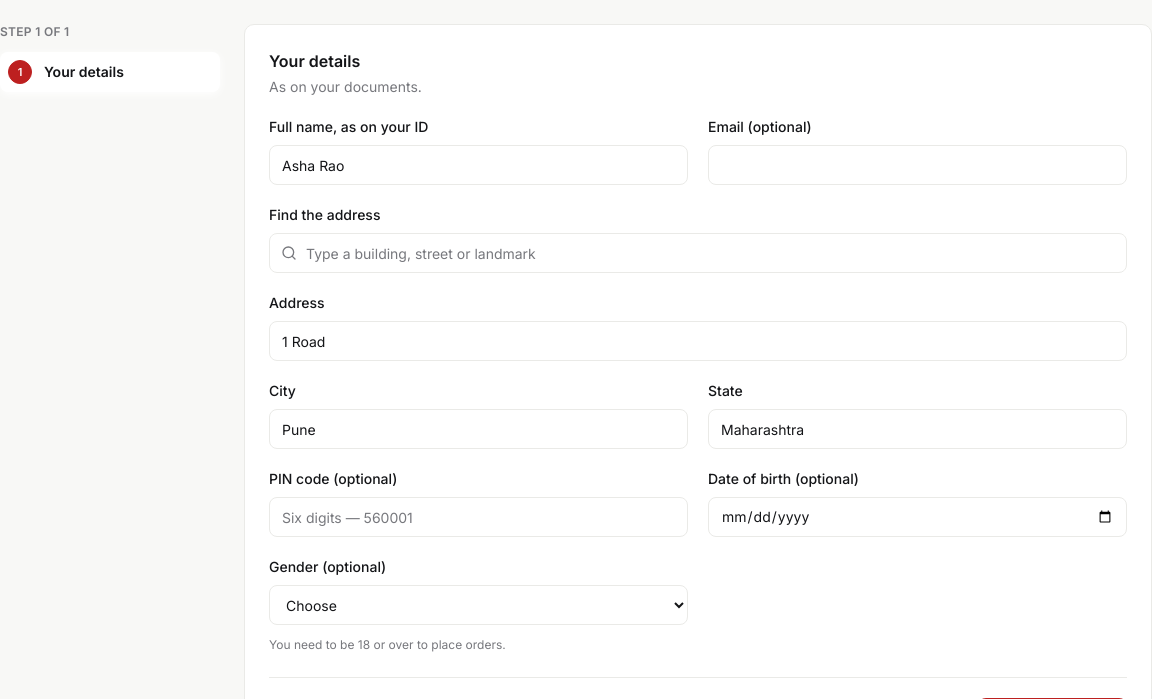
Onboarding ladder — the publisher's address › names a PIN that is not six digits
In the field labelled "PIN code (optional)": {"x": 478, "y": 517} [269, 497, 688, 537], type "4110"
(page scrolled)
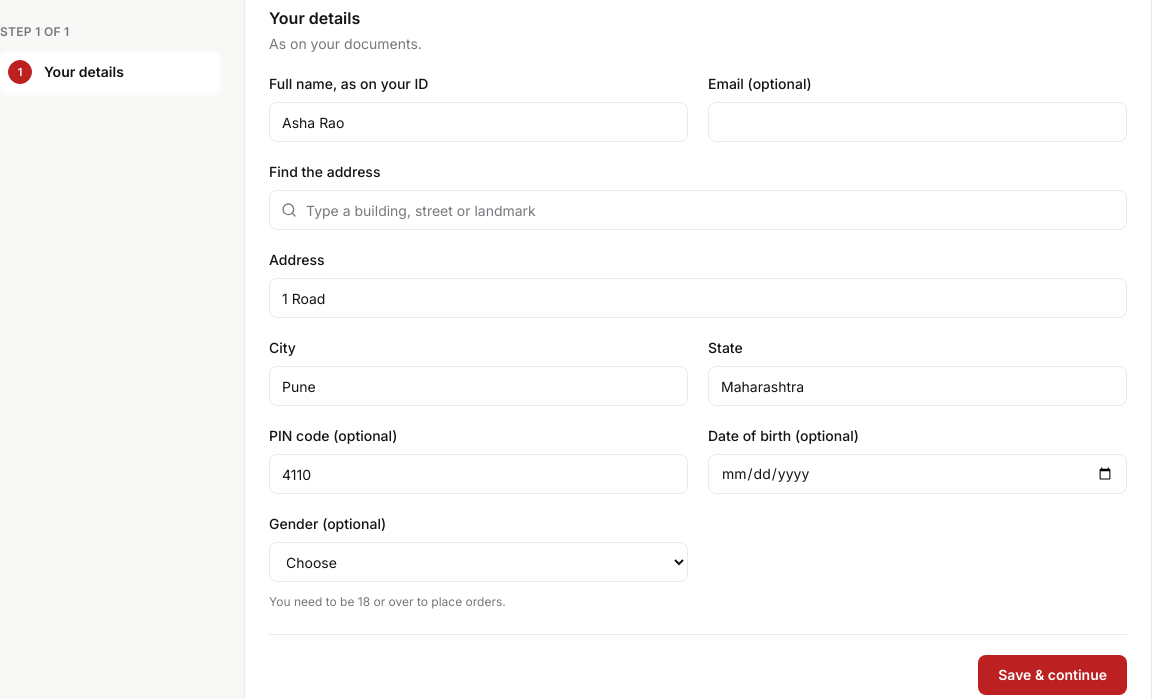
Click the button "Save & continue": {"x": 1053, "y": 675} [978, 655, 1127, 695]
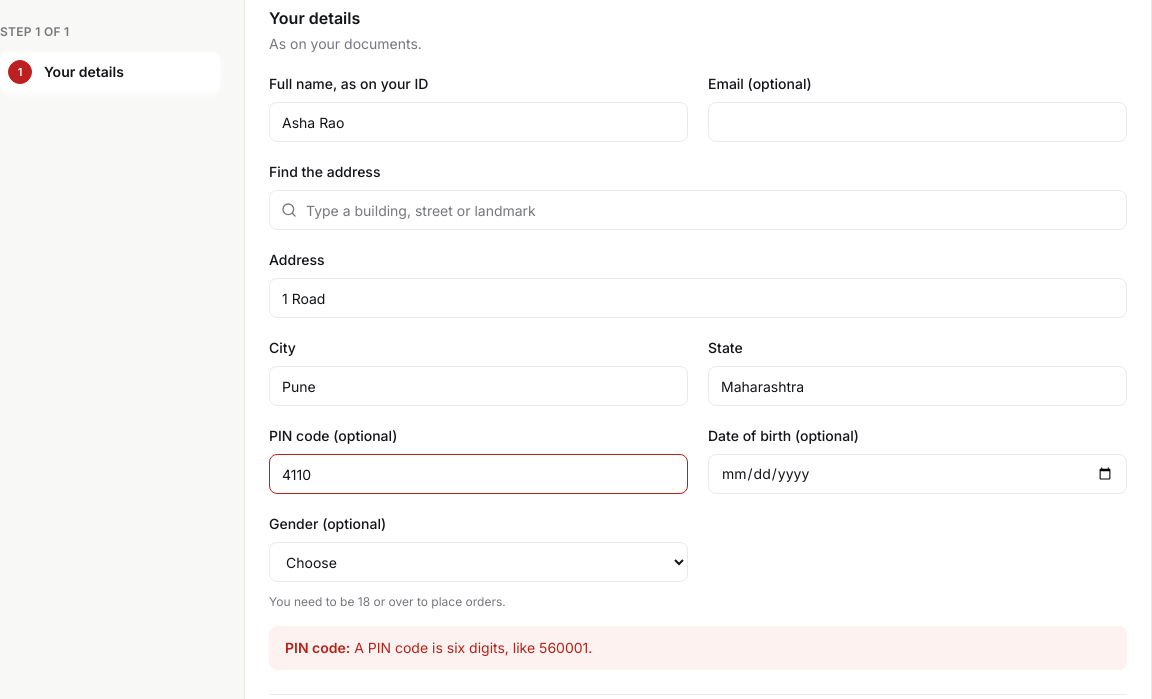
Expected: the list item "PIN code: A PIN code is six digits, like 560001." is shown, [285, 639, 592, 656]
